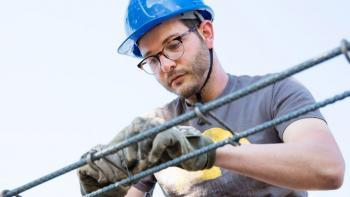helmet: (115, 1, 215, 58)
